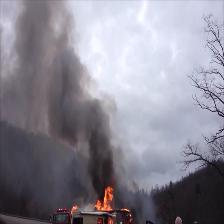fire: (97, 190, 113, 209)
smoke: (29, 9, 57, 96), (88, 103, 113, 184), (59, 70, 83, 136)
